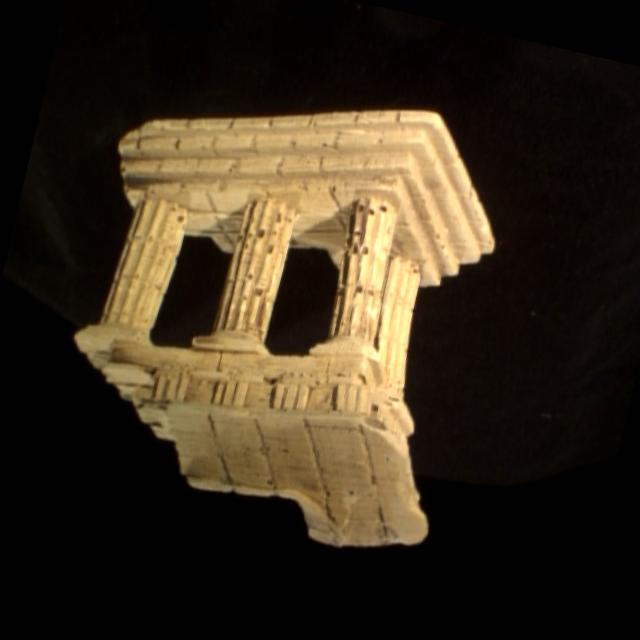Instance-Segmentation: (75, 110, 493, 544)
